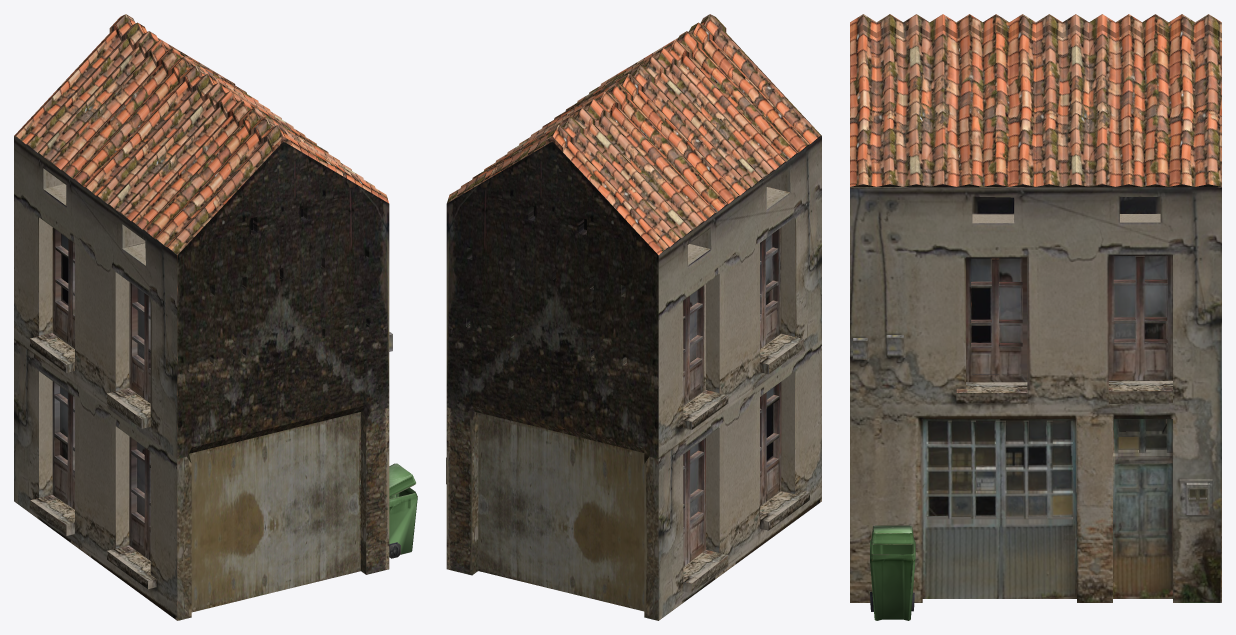
File: abandoned_house(2).glb
The picture shows the model from 3 angles, left to right: view 1: azimuth 30°, elevation 25°; view 2: azimuth 150°, elevation 25°; view 3: azimuth 270°, elevation 25°; orthographic projection. The views are drawn at different scales.
Visible parts, largest first — view 1: Cube_2; view 2: Cube_2; view 3: Cube_2.
Part boxes in pixels (x1,y1,x2,y2): Cube_2: (14,14,417,620); Cube_2: (446,14,821,620); Cube_2: (850,14,1221,620).
Bounding box in the file's own units: 16.2 × 27.85 × 17.7.
1 material, 1 textured.
